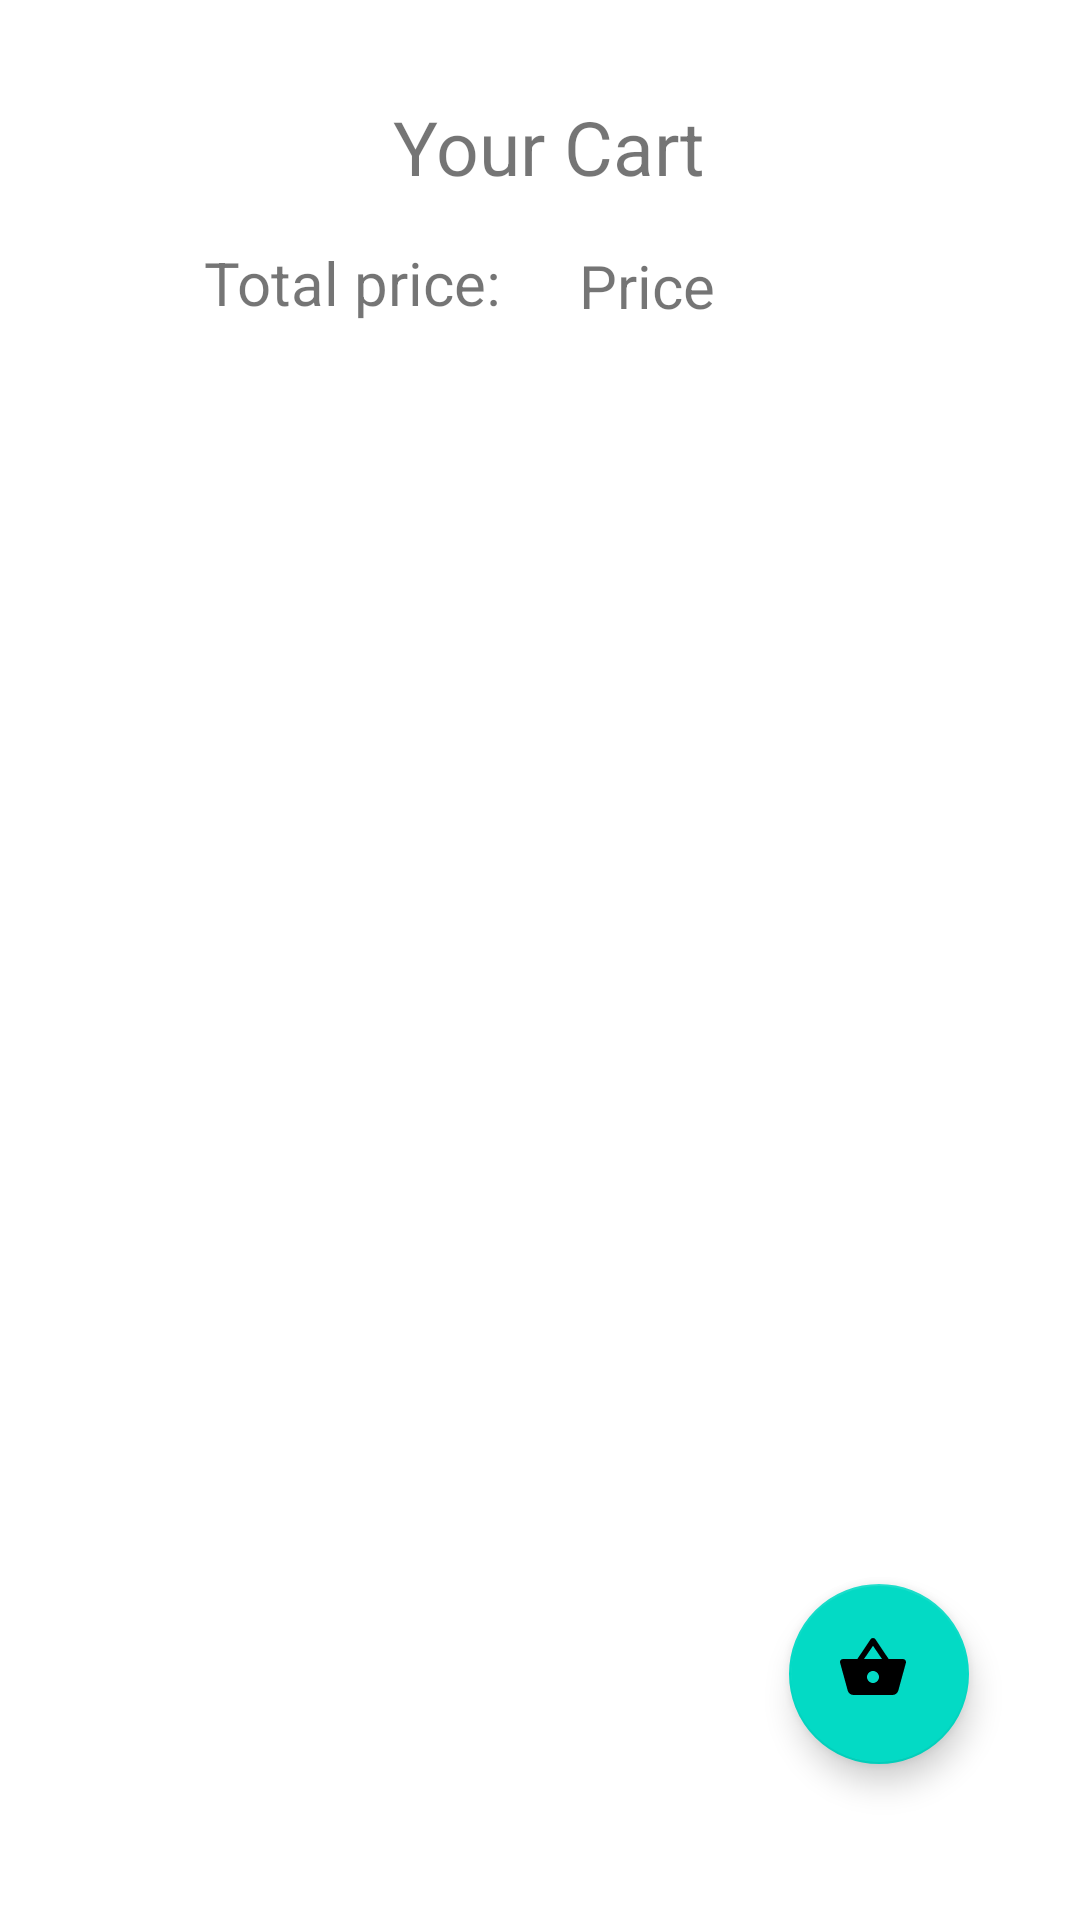

Icons on this 1080*1920 Android screen, each with its box as detection(x1, y1, x2, y2):
addshopping: detection(789, 1584, 969, 1764)
